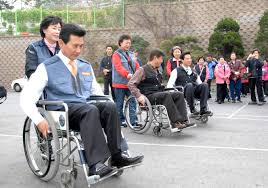wheelchair: (23, 23, 146, 188), (123, 50, 196, 138)
